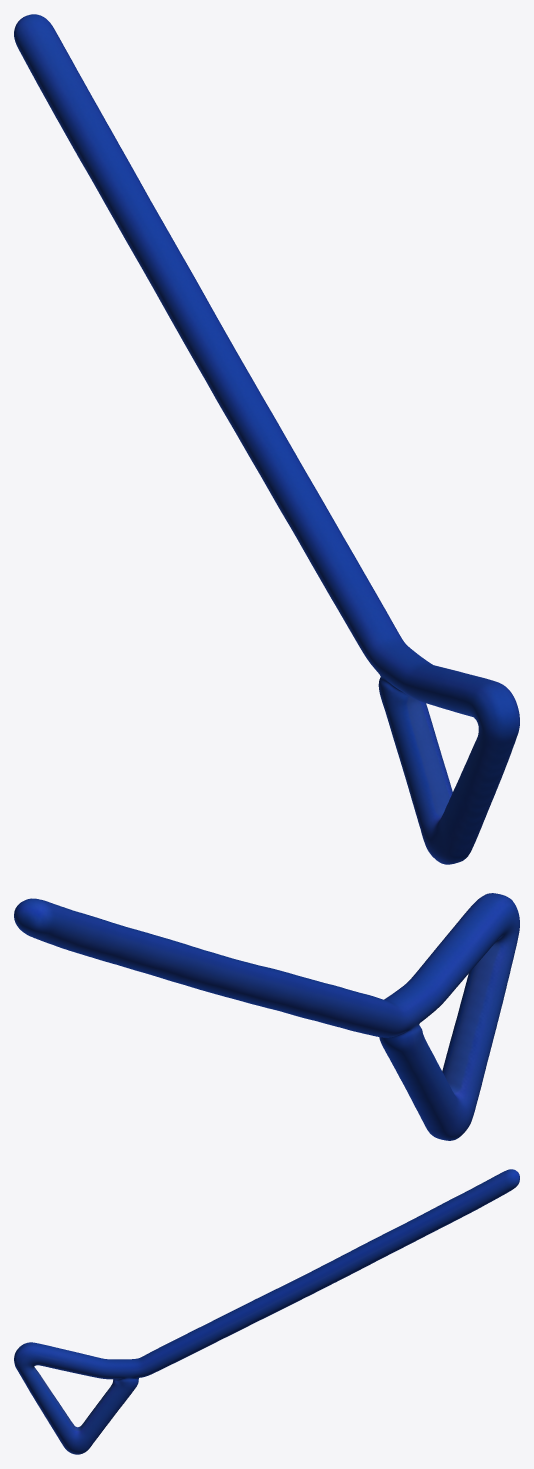
The model's file is base_basic_pbr.fbx.
3 views of the same model, one above another, from view 1: azimuth 30°, elevation 25°; view 2: azimuth 150°, elevation 25°; view 3: azimuth 270°, elevation 25° (orthographic). The views are drawn at different scales.
Visible parts, largest first — view 1: model; view 2: model; view 3: model.
Boxes of the visible parts, box(x1,y1,x2,y2) form: model: box(14, 14, 519, 864); model: box(14, 893, 519, 1140); model: box(14, 1169, 519, 1454).
Bounding box in the file's own units: 8.8 × 118 × 191.
1 material, 1 textured.
